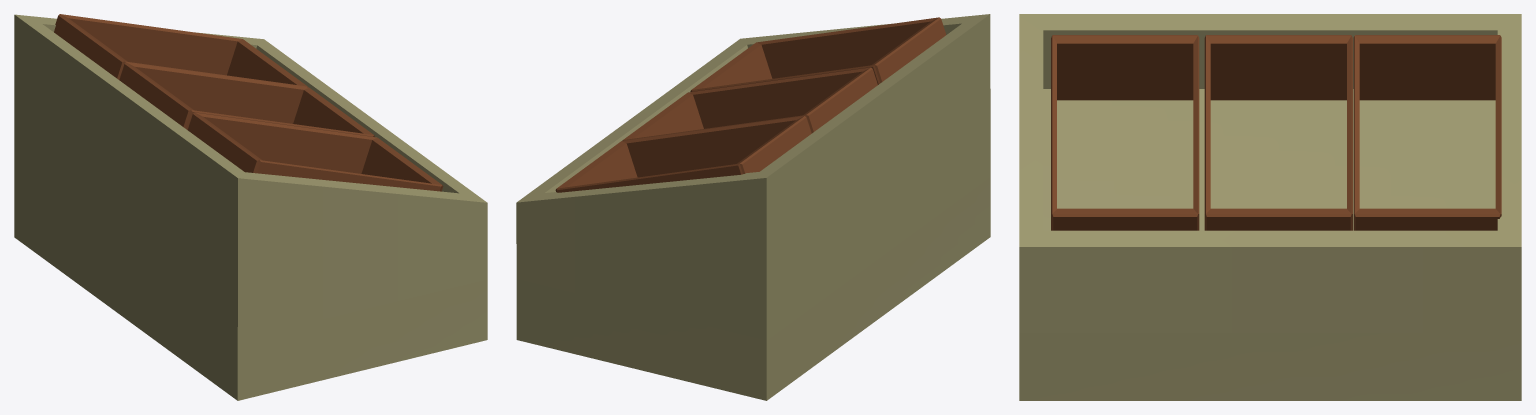
Rendered from stellage fruits.FBX.
3 views of the same model, side by side, from view 1: azimuth 30°, elevation 25°; view 2: azimuth 150°, elevation 25°; view 3: azimuth 270°, elevation 25° (orthographic). The views are drawn at different scales.
Parts seen in each view (by area): view 1: group_873218243, Box005; view 2: group_873218243, Box005; view 3: group_873218243, Box005.
Part boxes in pixels (bbox=[...]): group_873218243: bbox=[14, 14, 487, 400]; Box005: bbox=[54, 14, 443, 191]; group_873218243: bbox=[516, 14, 990, 400]; Box005: bbox=[555, 17, 946, 192]; group_873218243: bbox=[1019, 14, 1521, 400]; Box005: bbox=[1051, 35, 1501, 230].
Bounding box in the file's own units: 13.61 × 11.59 × 21.09.
